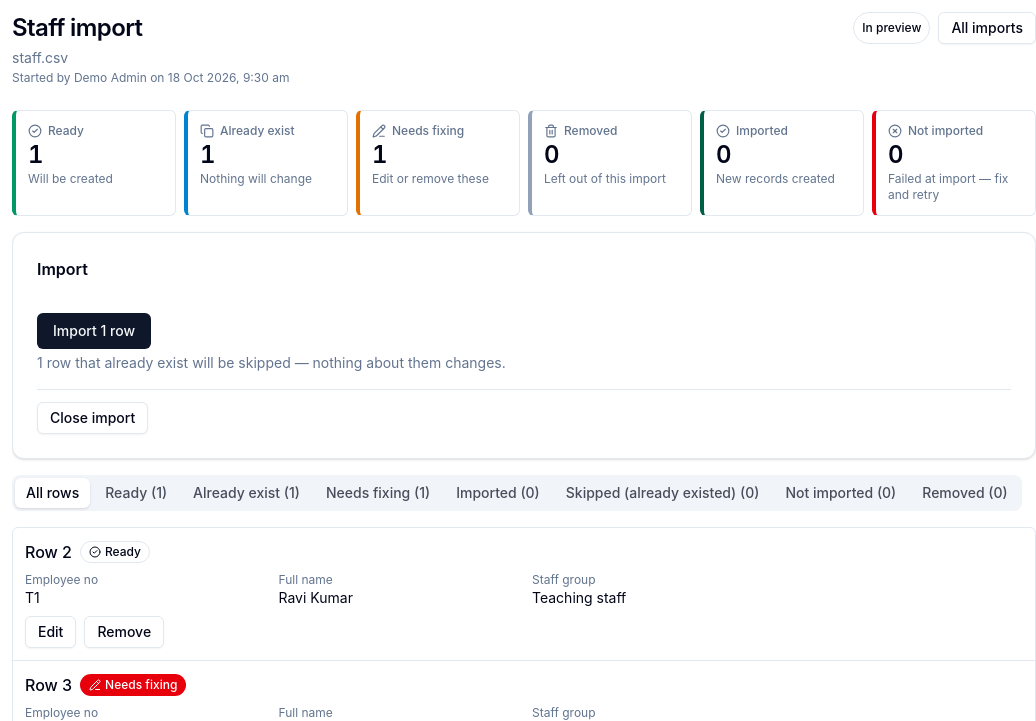
import job page › outage: commit AND the background refresh fail → the Continue warning survives; numbers come from the latest commit
Click the button "Import 1 row": (94,331) [37,313,151,349]
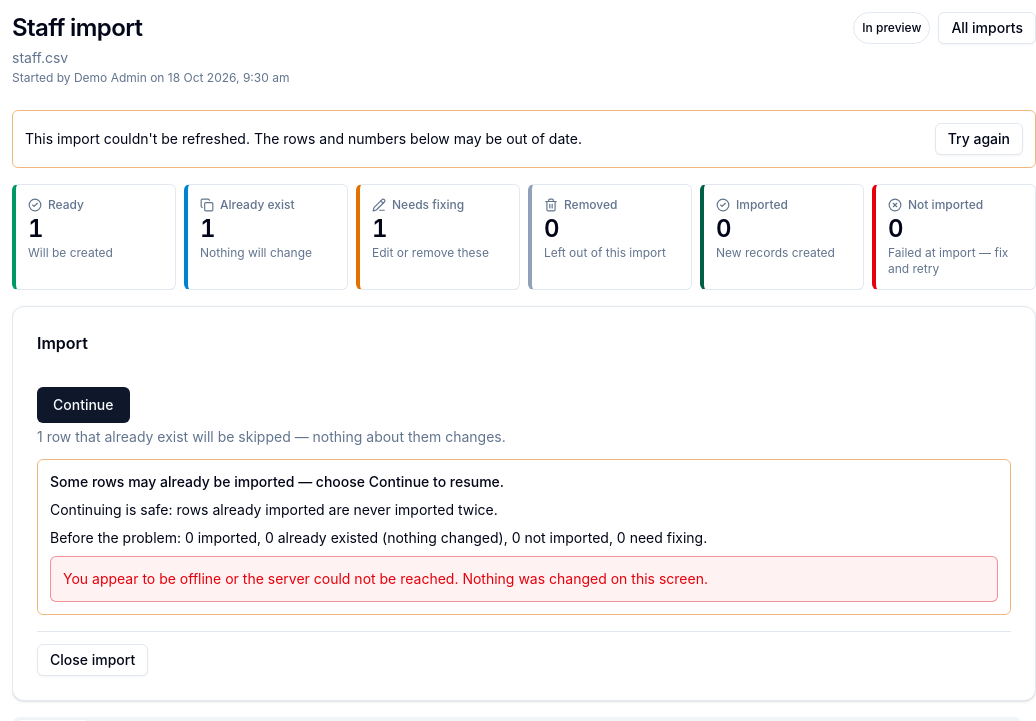
Expected: the list item with test id "tile-Ready" shows "1", [28,214,44,243]
Result: the text "This import couldn.t be refreshed" is shown at [25,130,582,147]
Result: the text "Some rows may already be imported — choose Continue to resume." is shown at [50,473,504,490]
Click the button "Continue": (83,405) [37,387,130,423]
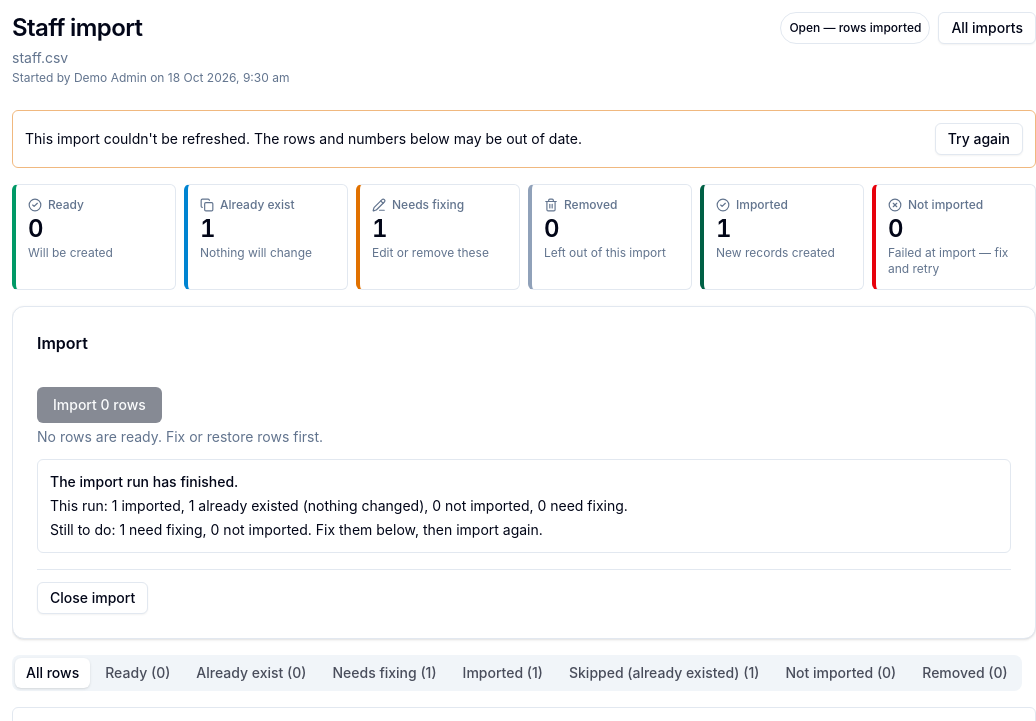
Result: the text "This run: 1 imported, 1 already existed (nothing changed), 0 not imported, 0 need fixing." is shown at [50,497,628,514]
Result: the text "Still to do: 1 need fixing, 0 not imported" is shown at [50,521,543,538]
Result: the list item with test id "tile-Imported" shows "1" at [716,214,732,243]
